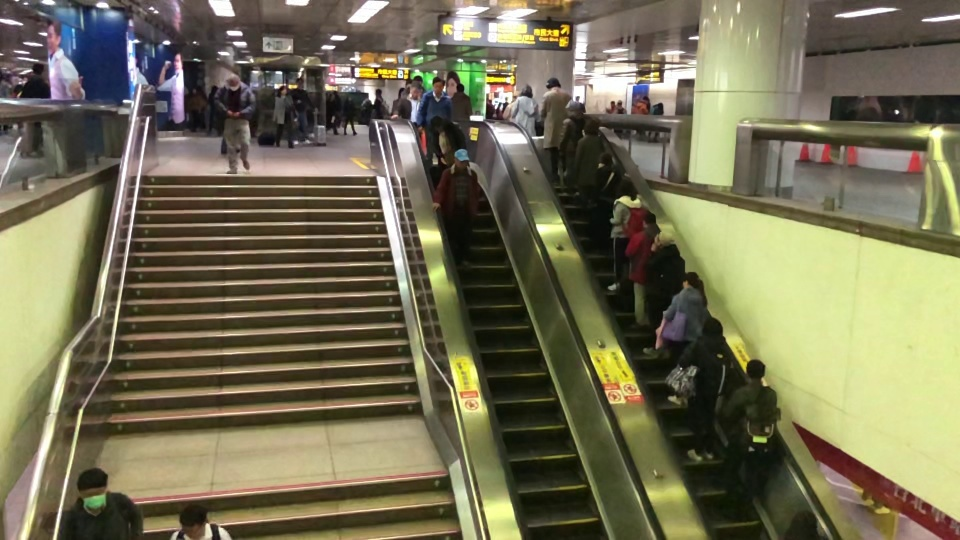person_head: (70, 462, 109, 513), (175, 503, 209, 540), (782, 507, 820, 540), (744, 351, 768, 385), (653, 221, 678, 248), (677, 269, 702, 296), (698, 317, 722, 343), (513, 79, 534, 101), (616, 179, 637, 200), (453, 148, 470, 172), (224, 74, 243, 94), (567, 97, 584, 118), (582, 117, 600, 136), (594, 154, 615, 170), (406, 82, 422, 99), (545, 76, 562, 92), (430, 78, 444, 97), (642, 212, 656, 227), (31, 61, 43, 76), (454, 83, 466, 94), (397, 87, 407, 100), (277, 85, 287, 97), (295, 76, 304, 89), (191, 86, 201, 96), (210, 84, 219, 95), (641, 95, 649, 105), (374, 88, 382, 98), (21, 75, 28, 86), (327, 93, 335, 102), (0, 68, 5, 82), (656, 102, 663, 110), (346, 95, 352, 102), (617, 99, 622, 106), (610, 101, 615, 108)
person_vbox: (708, 351, 786, 521), (681, 315, 739, 463), (656, 269, 713, 401), (56, 462, 145, 540), (641, 219, 689, 350), (432, 149, 481, 272), (211, 74, 256, 176), (610, 179, 650, 290), (570, 116, 614, 203), (535, 75, 570, 179), (414, 77, 452, 172), (550, 95, 586, 190), (14, 60, 50, 154), (631, 211, 660, 326), (587, 150, 627, 222), (501, 78, 539, 145), (166, 503, 232, 540), (286, 76, 318, 146), (270, 85, 295, 149), (390, 82, 422, 121), (185, 85, 208, 137), (206, 84, 223, 139), (450, 83, 472, 123), (630, 95, 649, 141), (0, 68, 12, 135), (646, 101, 664, 143), (342, 95, 358, 137), (325, 93, 340, 136), (612, 99, 627, 139), (367, 88, 384, 119), (390, 87, 407, 116), (12, 74, 28, 98), (605, 101, 616, 114)
